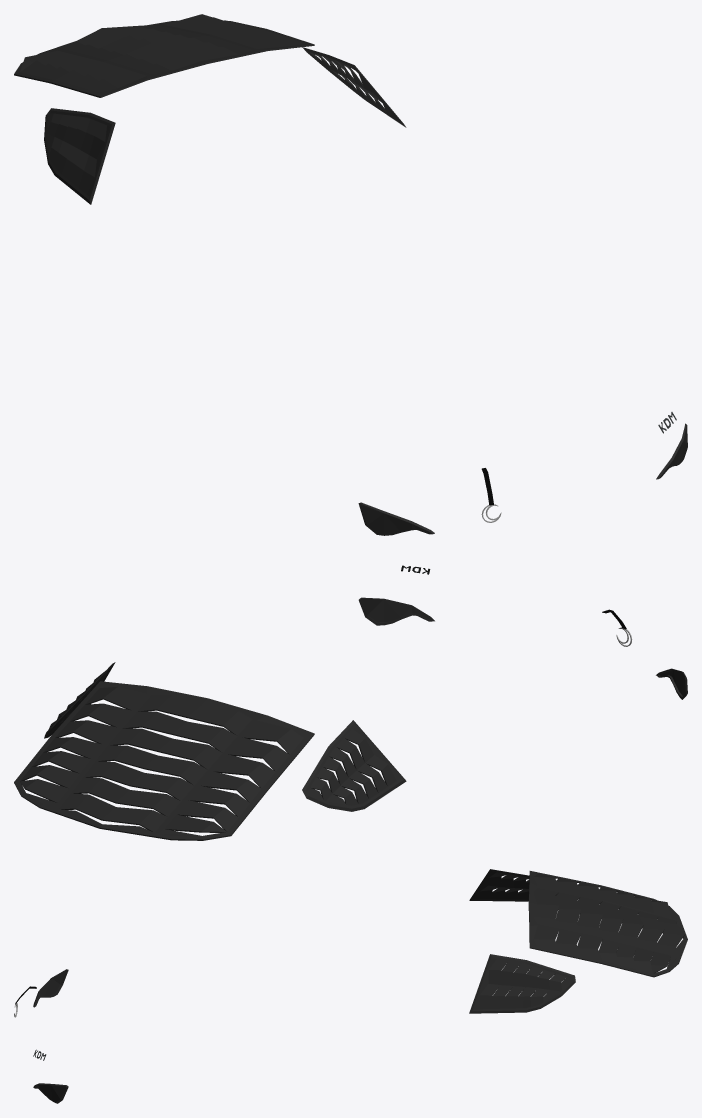
Rendered from hgca.obj.
The picture shows the model from 3 angles, top to bottom: view 1: azimuth 30°, elevation 25°; view 2: azimuth 150°, elevation 25°; view 3: azimuth 270°, elevation 25°; orthographic projection. The views are drawn at different scales.
Parts seen in each view (by area): view 1: accessories; view 2: accessories; view 3: accessories.
Part boxes in pixels (x1,y1,x2,y2): accessories: (14, 14, 687, 535); accessories: (14, 565, 687, 840); accessories: (14, 869, 687, 1103).
Size of the model in its own units: 2.41 by 1.41 by 5.86.
